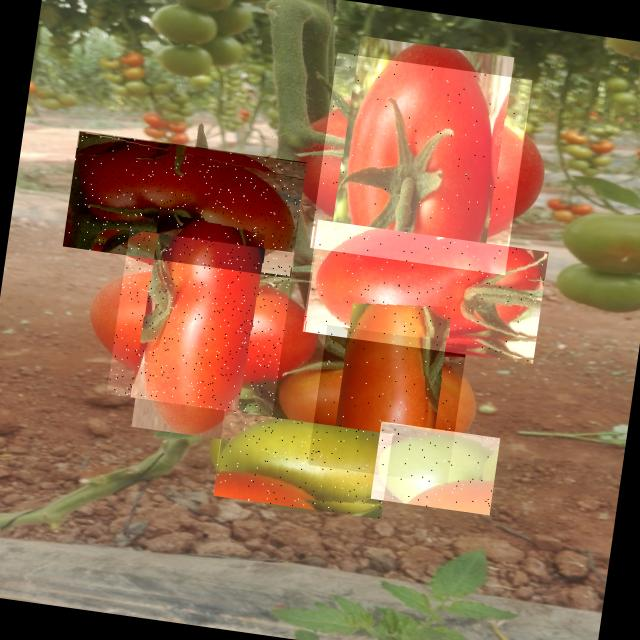Ripe Tomato: (310, 52, 532, 276), (63, 130, 307, 278), (302, 220, 548, 364), (107, 230, 295, 418), (308, 325, 467, 484)
Unripe Tomato: (213, 410, 393, 520), (370, 422, 500, 516)
